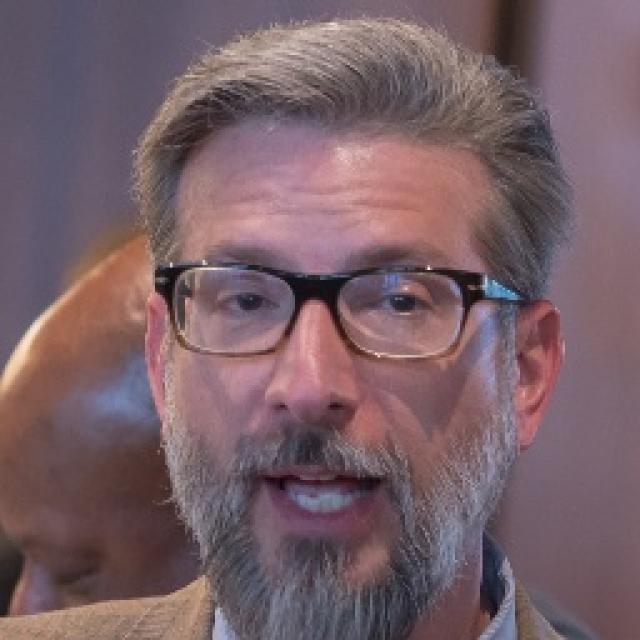earlobe: (511, 301, 566, 451), (142, 292, 174, 425)
